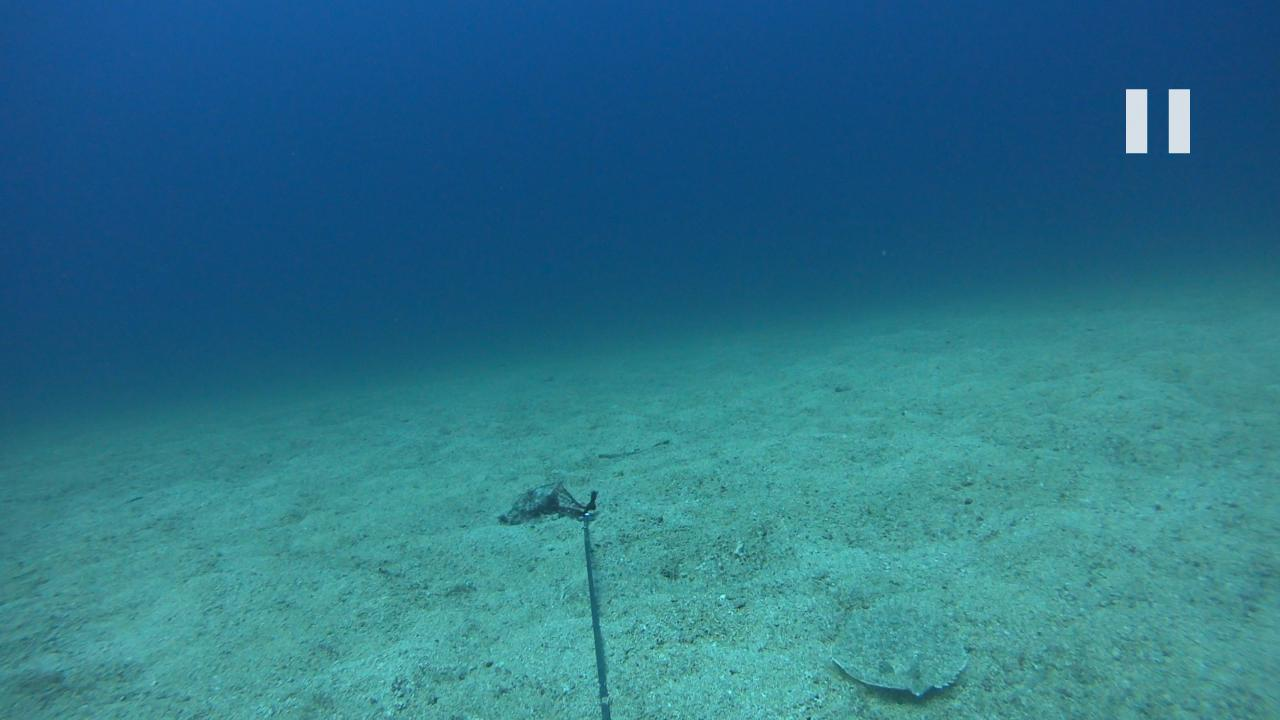bothus: (822, 588, 968, 702)
